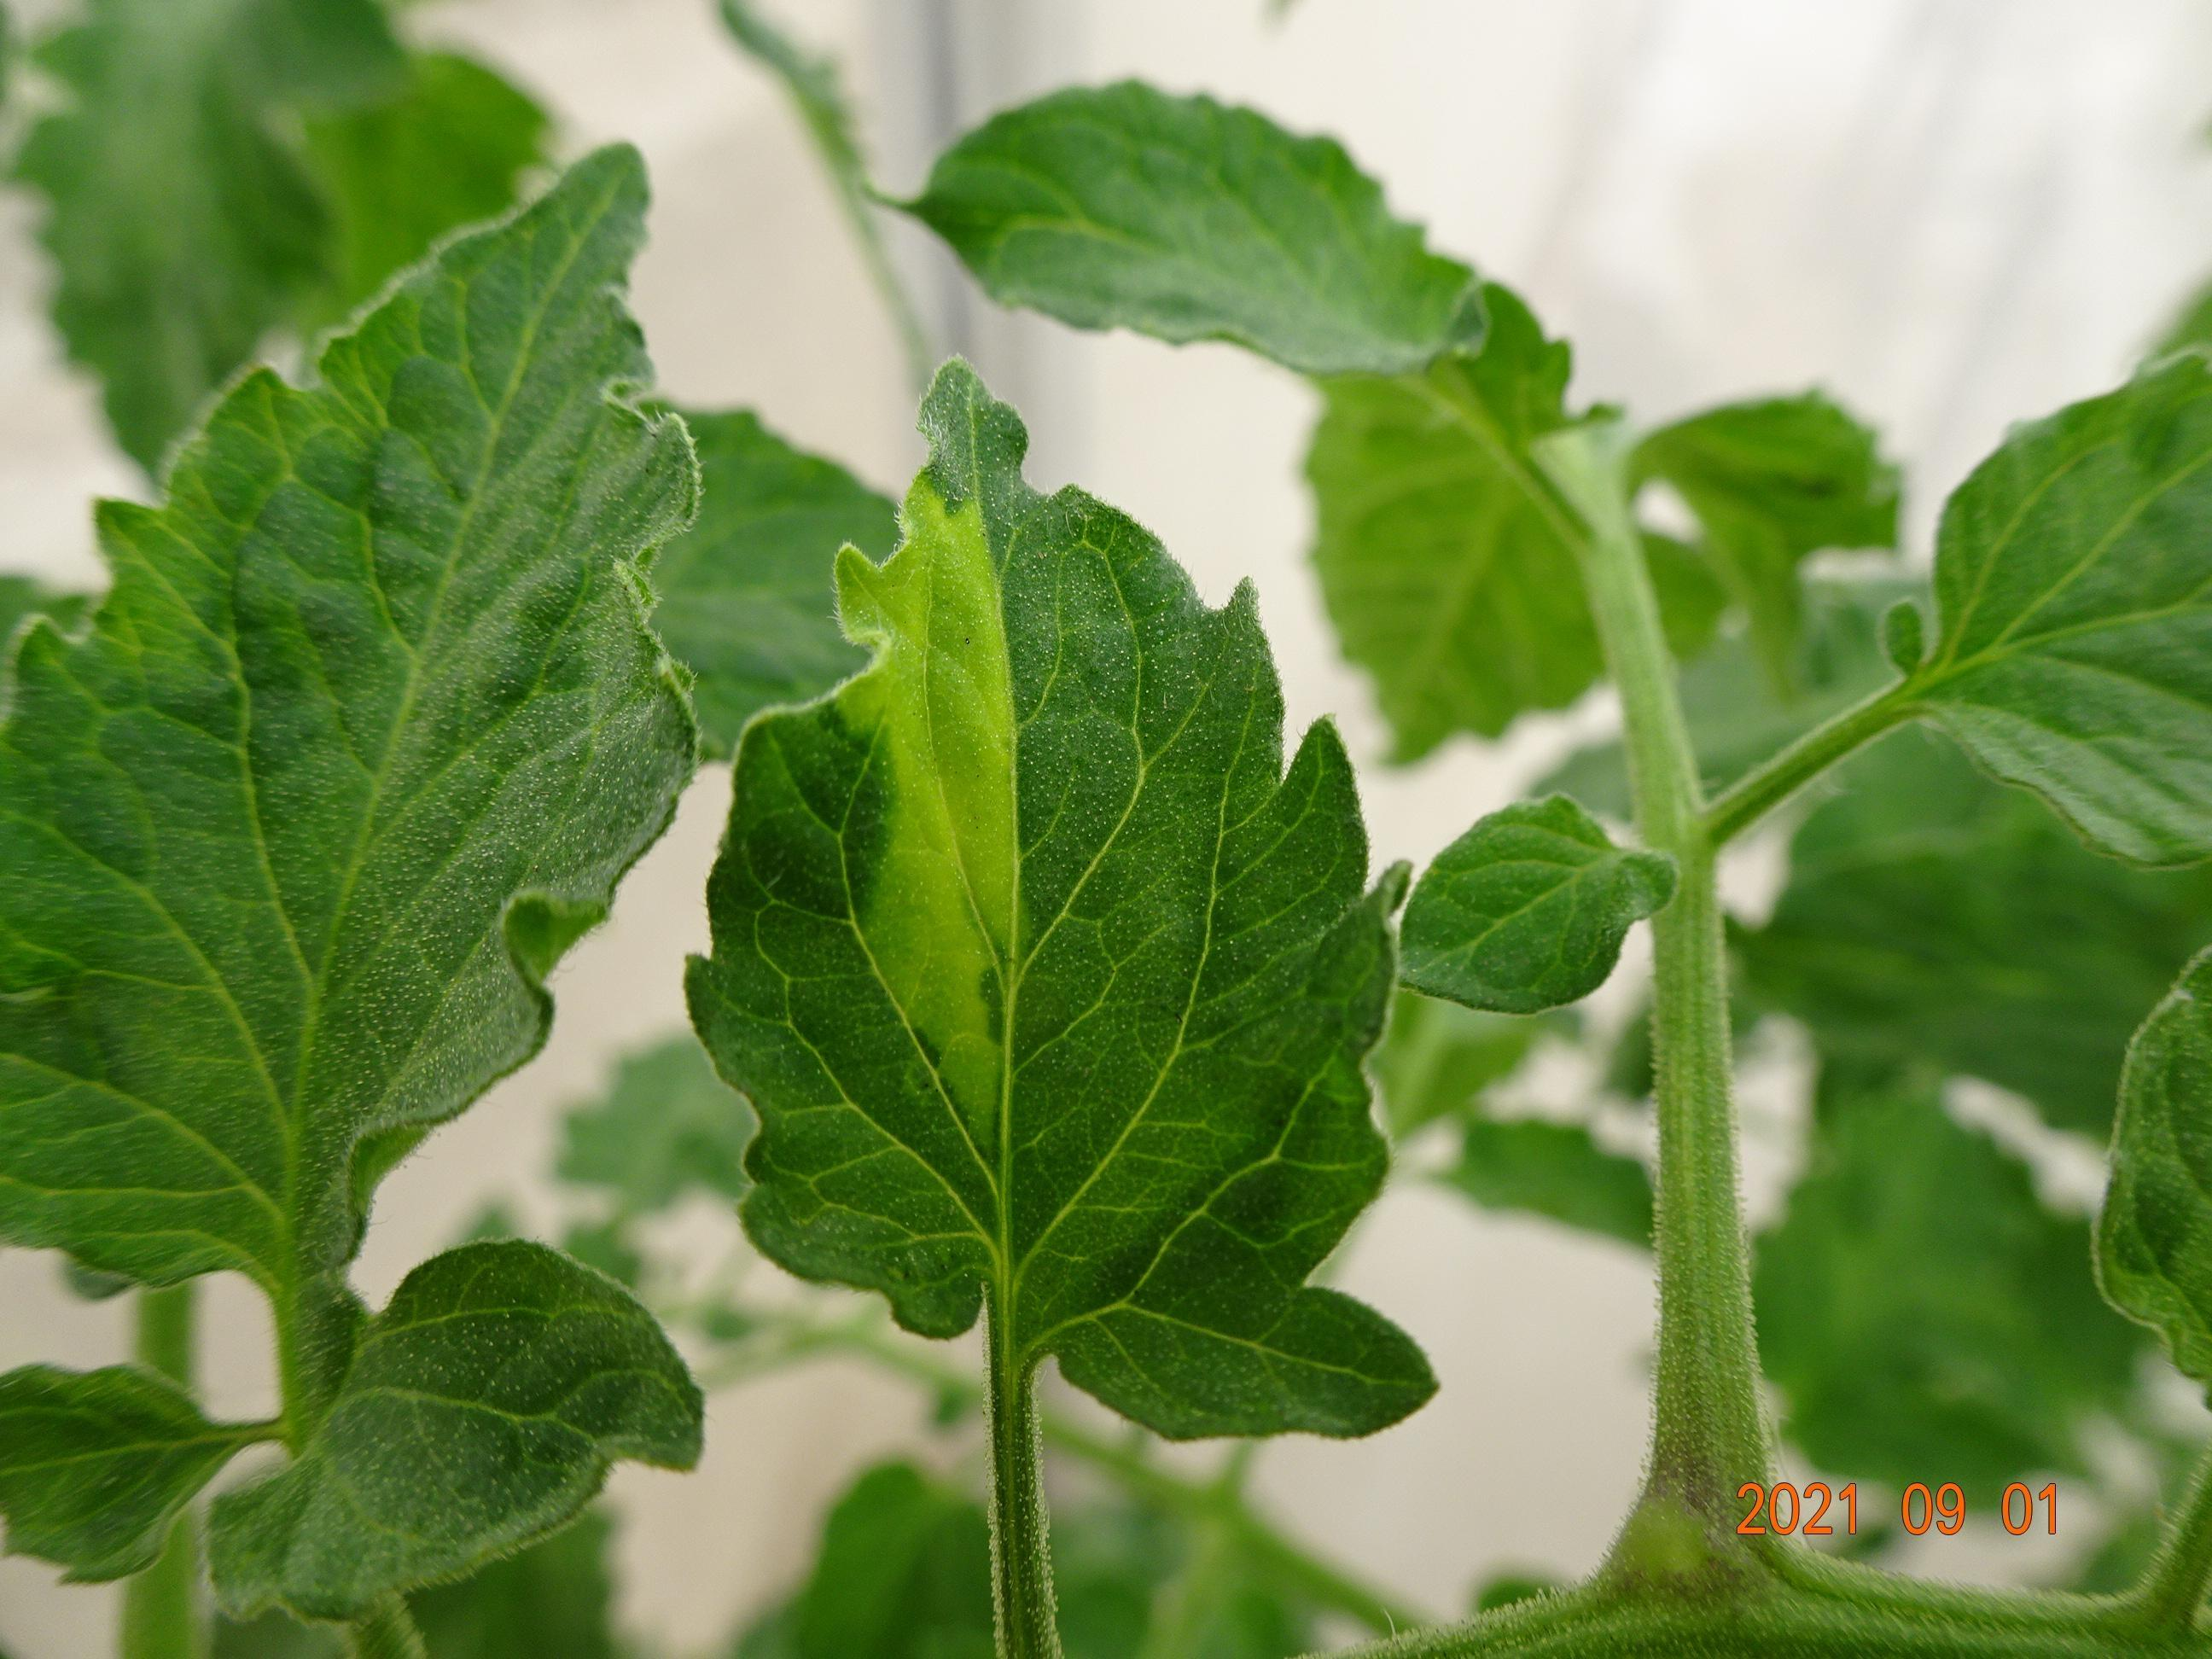Rugose leaf: (0, 139, 704, 1459), (679, 368, 1442, 1446), (207, 1241, 704, 1621)
